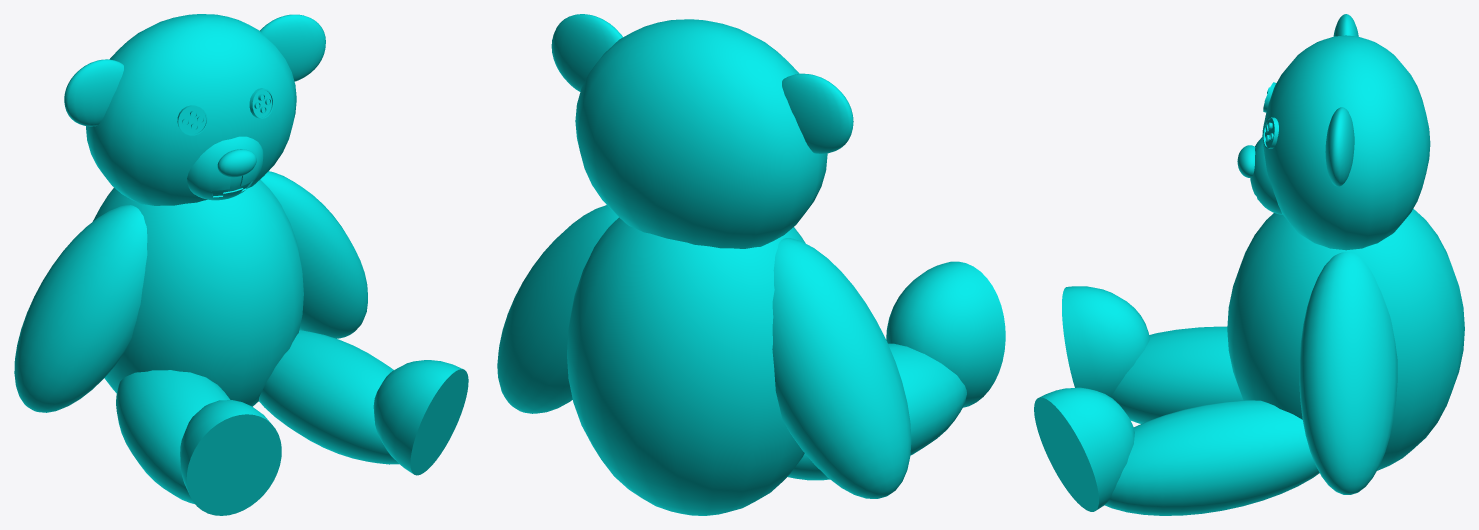
File: nounours_low.fbx
3 renders of one model, left to right at view 1: azimuth 30°, elevation 25°; view 2: azimuth 150°, elevation 25°; view 3: azimuth 270°, elevation 25°, orthographic. The views are drawn at different scales.
Visible parts, largest first — view 1: nounours_low1; view 2: nounours_low1; view 3: nounours_low1.
Part boxes in pixels (box(x1,y1,x2,y2)): nounours_low1: box(14, 14, 468, 515); nounours_low1: box(497, 14, 1005, 515); nounours_low1: box(1034, 14, 1464, 515).
Size of the model in its own units: 277 by 311 by 289.
